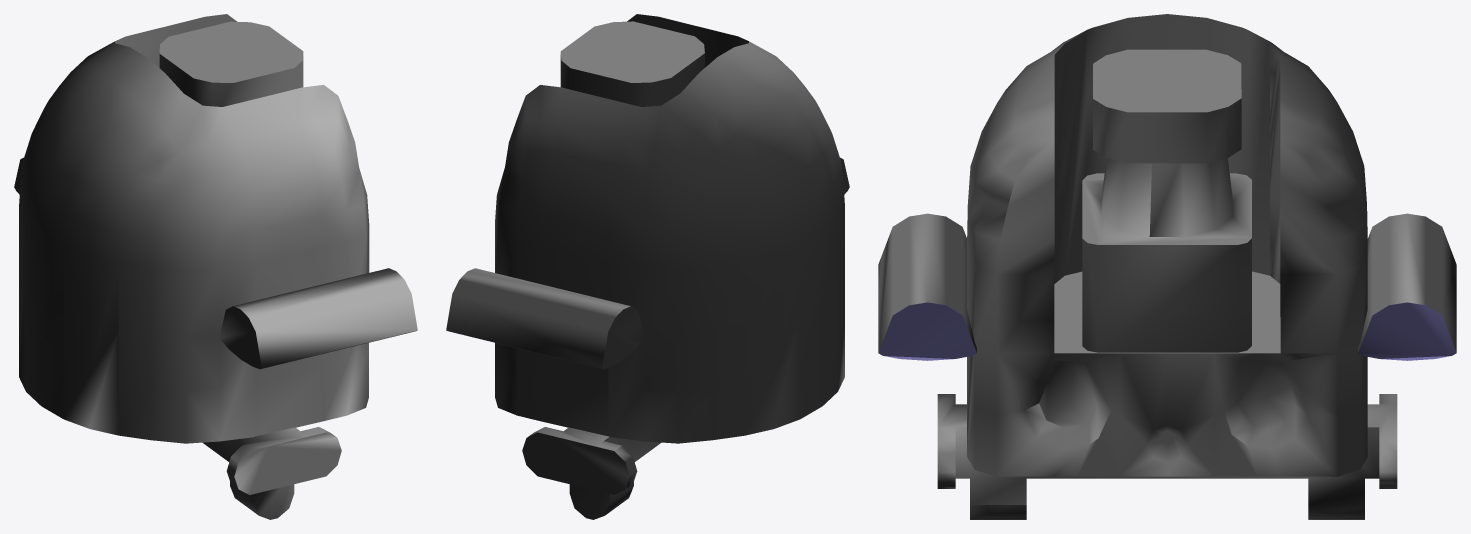
The model's file is head.dae.
The picture shows the model from 3 angles, left to right: view 1: azimuth 30°, elevation 25°; view 2: azimuth 150°, elevation 25°; view 3: azimuth 270°, elevation 25°; orthographic projection. The views are drawn at different scales.
Parts seen in each view (by area): view 1: p37504, p38042, p37374, p37197, p38316; view 2: p37504, p38006, p37374, p37197, p38042; view 3: p37504, p37374, p37197, p38006, p38042, p38031, p38305.
Part boxes in pixels (x1,y1,x2,y2): p37504: (19,14,369,443); p38042: (14,157,417,368); p37374: (159,21,303,106); p37197: (203,427,341,519); p38316: (219,306,261,369); p37504: (495,14,844,443); p38006: (446,268,630,368); p37374: (560,21,704,106); p37197: (522,427,660,519); p38042: (602,306,644,369); p37504: (967,14,1367,476); p37374: (1082,49,1251,352); p37197: (937,394,1397,519); p38006: (1358,213,1456,352); p38042: (878,213,976,352); p38031: (1358,302,1456,358); p38305: (878,302,976,358).
Size of the model in its own units: 0.1216 by 0.2047 by 0.1872.
